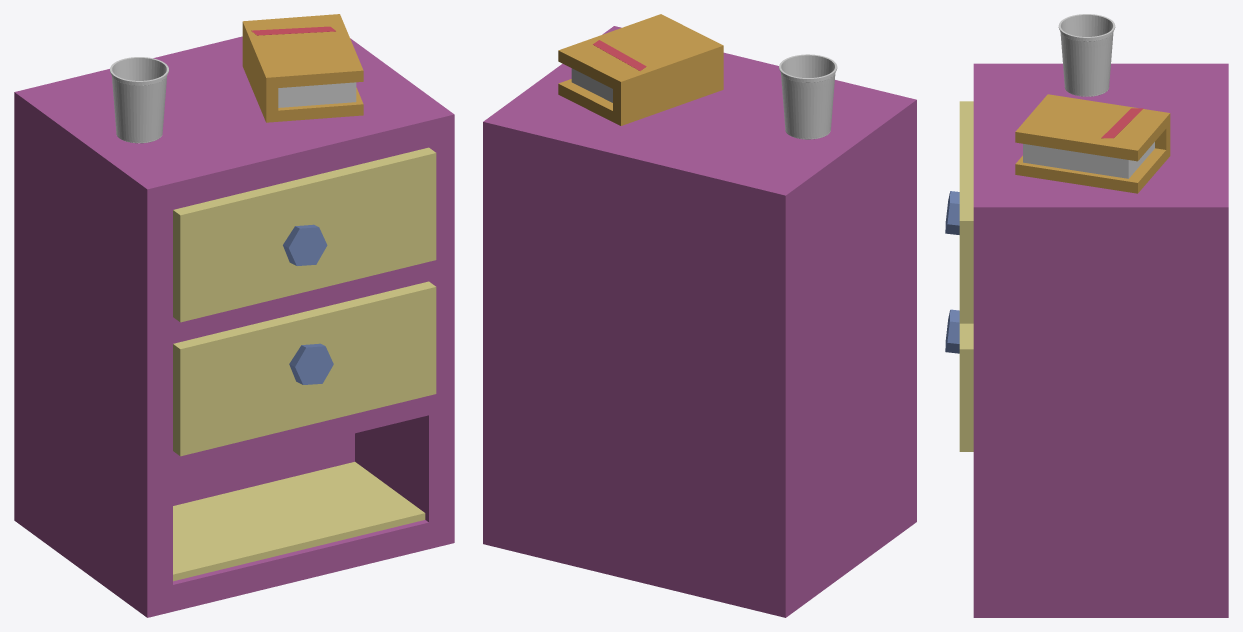
The model's file is Project 149 - Nightstand.glb.
3 renders of one model, left to right at view 1: azimuth 30°, elevation 25°; view 2: azimuth 150°, elevation 25°; view 3: azimuth 270°, elevation 25°, orthographic. The views are drawn at different scales.
Parts seen in each view (by area): view 1: Mesh_Mesh_head_geo.001_lambert2SG.001; view 2: Mesh_Mesh_head_geo.001_lambert2SG.001; view 3: Mesh_Mesh_head_geo.001_lambert2SG.001.
Boxes of the visible parts, x1,y1,x2,y2 form: Mesh_Mesh_head_geo.001_lambert2SG.001: (14, 14, 454, 617); Mesh_Mesh_head_geo.001_lambert2SG.001: (483, 14, 916, 617); Mesh_Mesh_head_geo.001_lambert2SG.001: (945, 14, 1228, 617).
Size of the model in its own units: 24 by 36.79 by 20.
